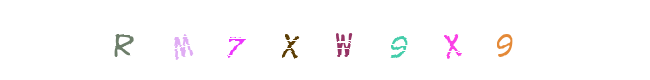7: (250, 0, 330, 80)
9: (324, 0, 404, 80), (464, 0, 544, 80)
M: (214, 0, 294, 80)
R: (131, 0, 211, 80)
W: (303, 0, 383, 80)
X: (285, 0, 365, 80), (358, 0, 438, 80)
